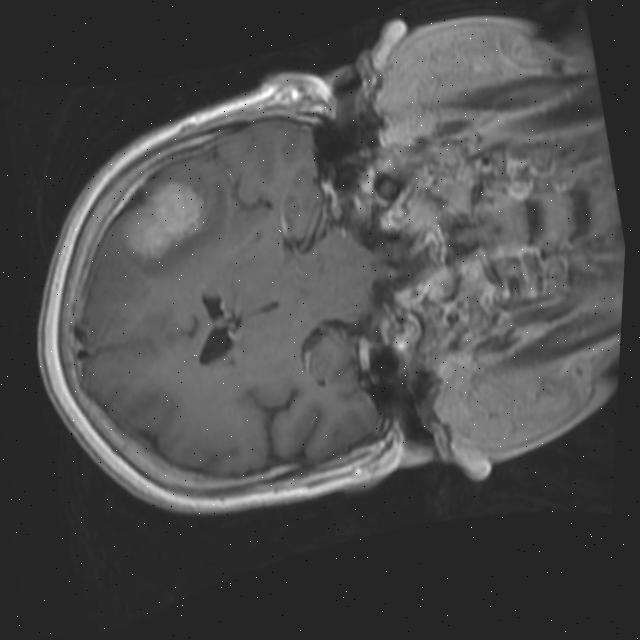Meningioma: (111, 165, 215, 267)
